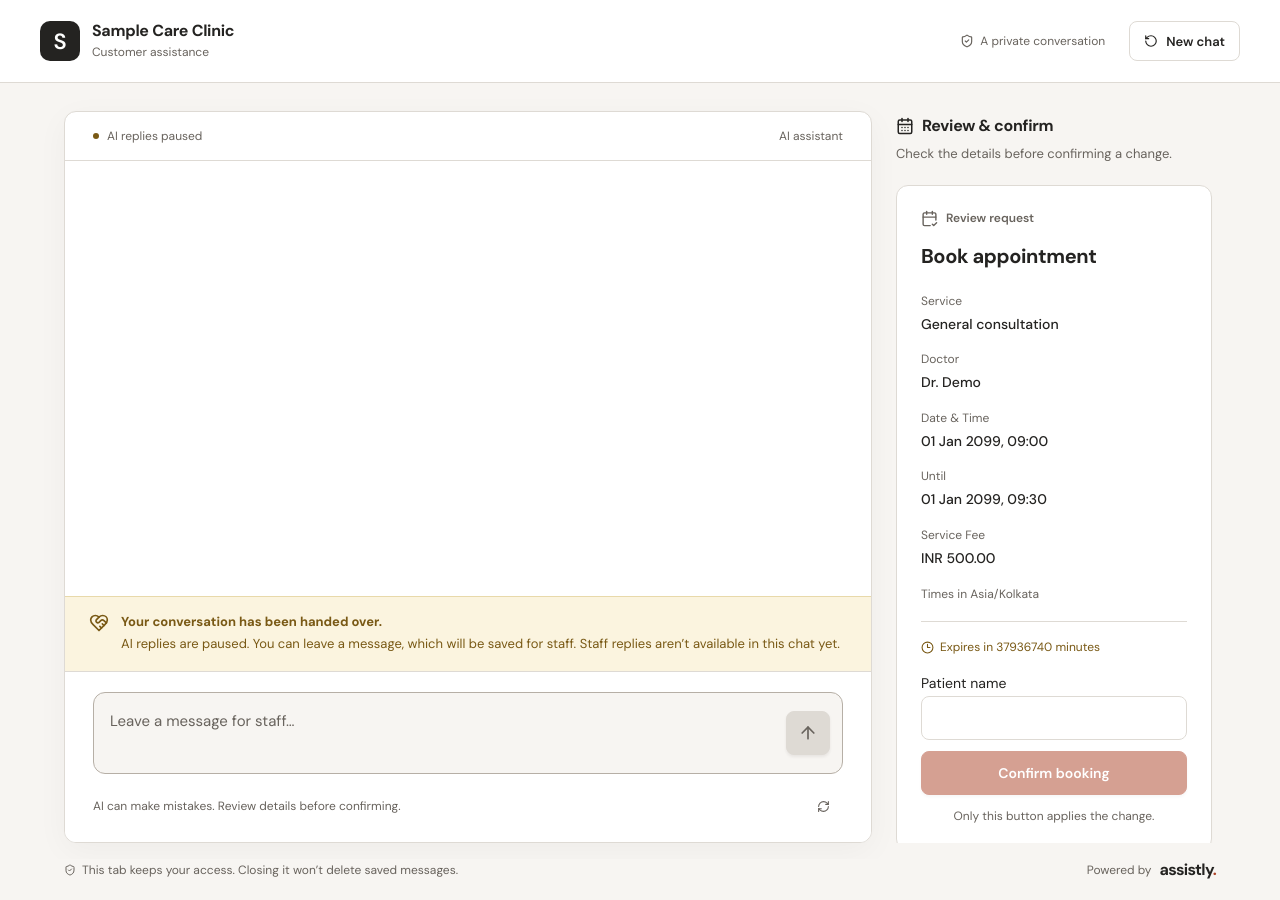
Test: public customer chat › shows handoff, saves messages without AI replies and prevents confirmation
Expected: the text "Your conversation has been handed over." is shown, [121,613,382,630]
Expected: the button "Confirm booking" is disabled, [921,751,1187,795]
Type "A message for staff" into the text box named "Your message".
click(436, 733); type("A message for staff")  # box [98,701,774,765]
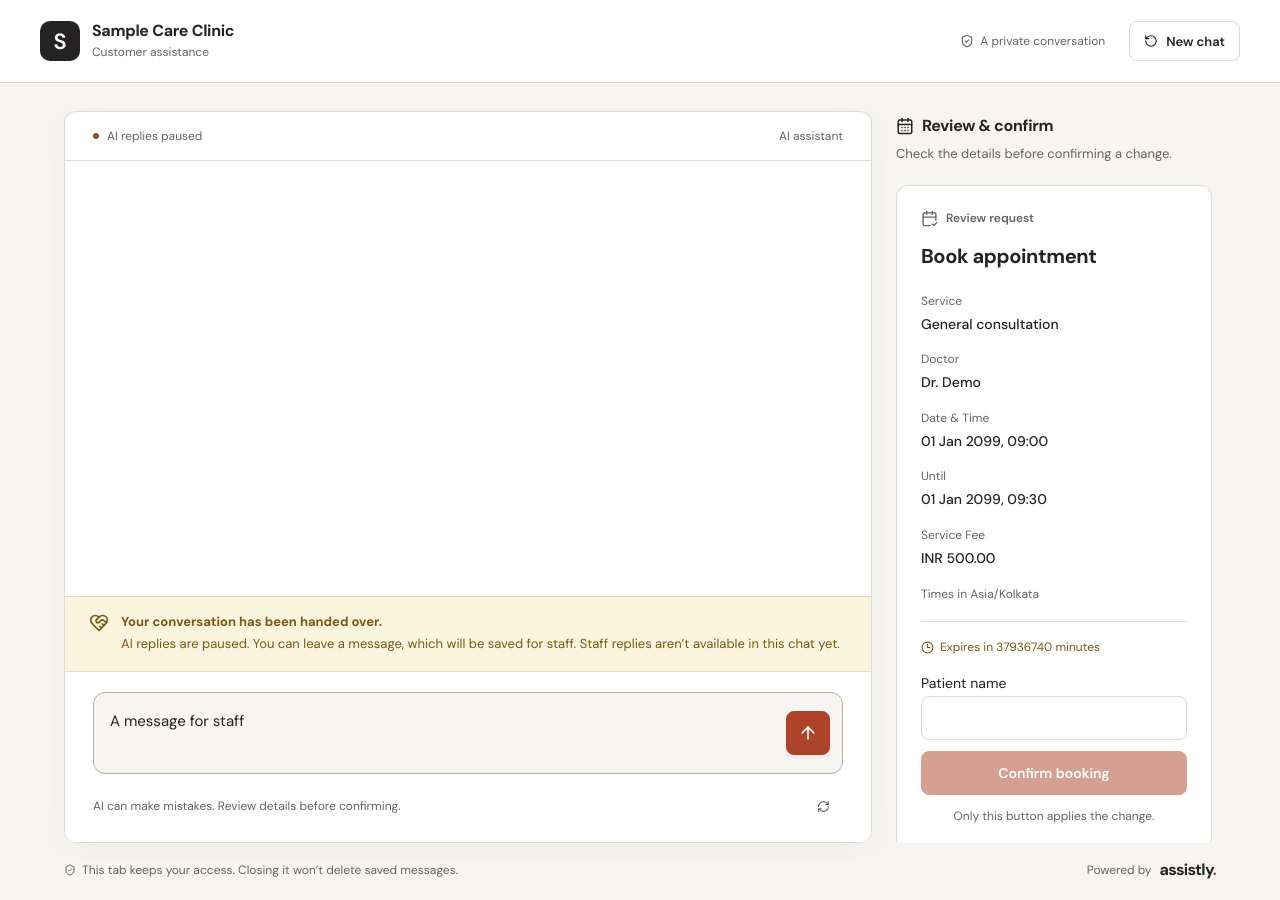
Click the button named "Send message".
click(808, 733)  # box [786,711,830,755]
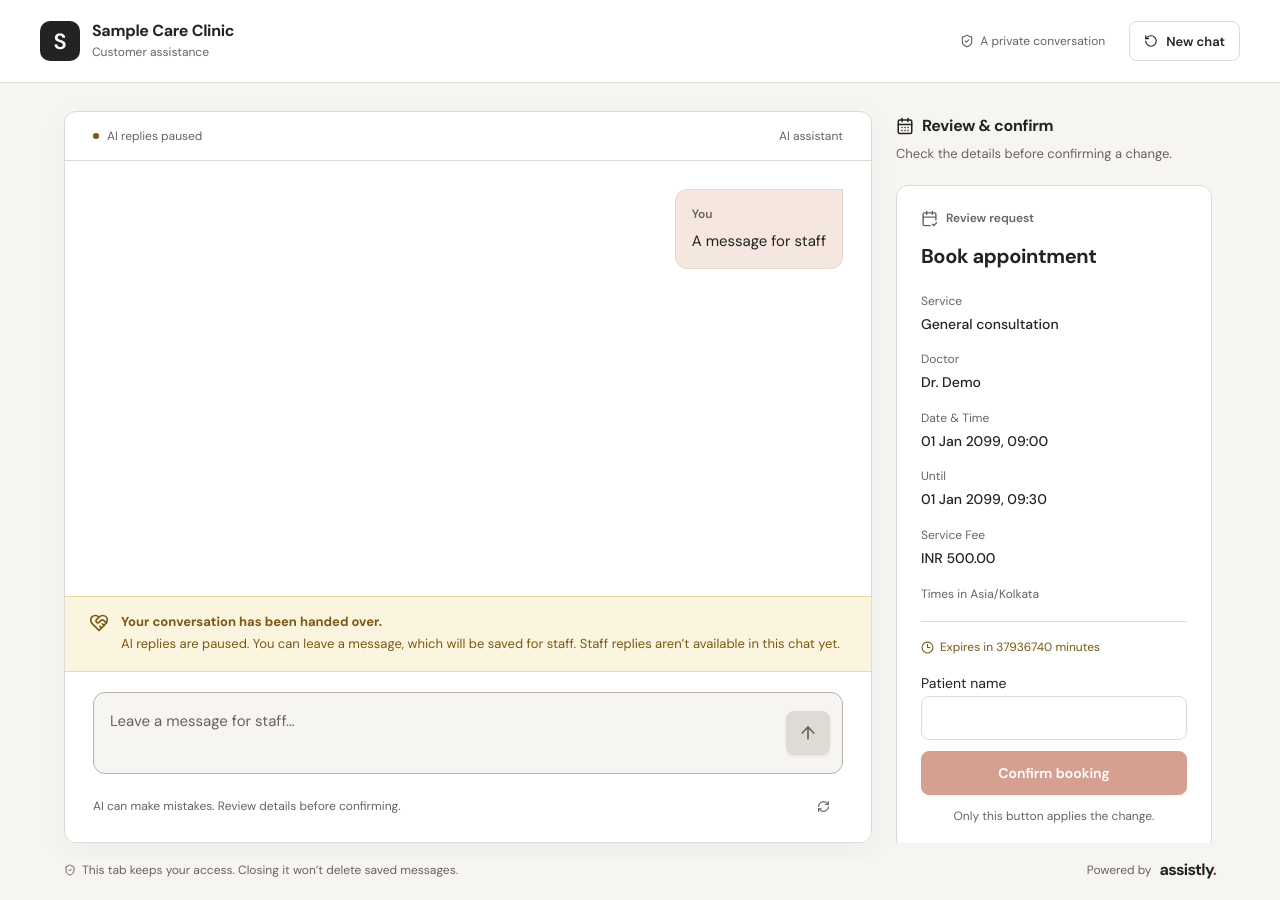
Expected: the text "A message for staff" is shown, [692,228,826,254]
